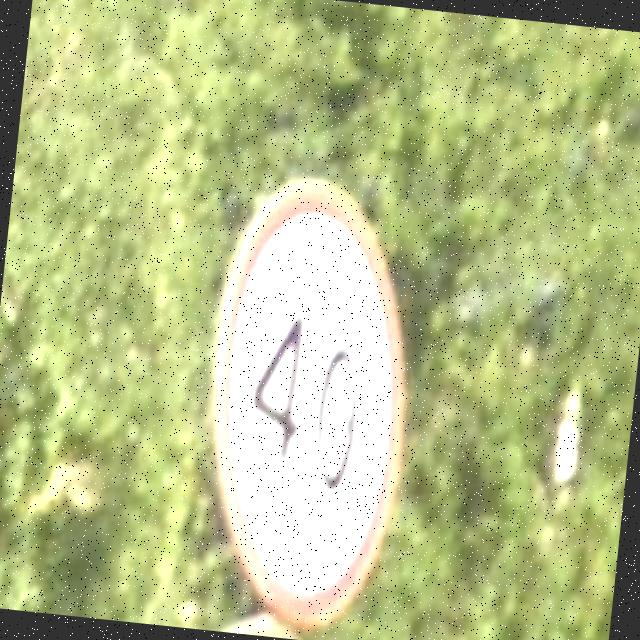Ograniczenie predkosci do 40: (183, 164, 436, 640)
